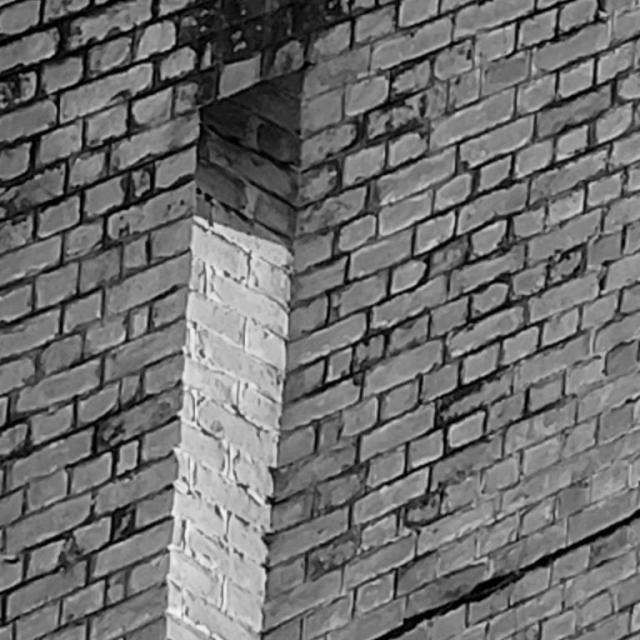crack: (371, 507, 639, 640)
